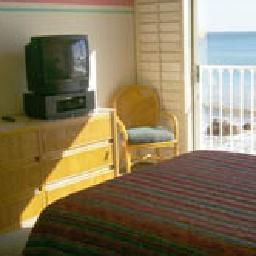Cama: (25, 152, 253, 250)
